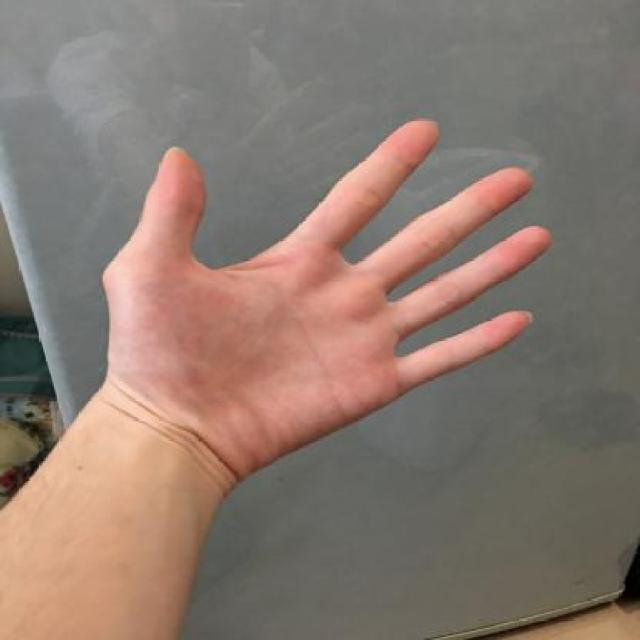no_glove: (86, 110, 563, 488)
